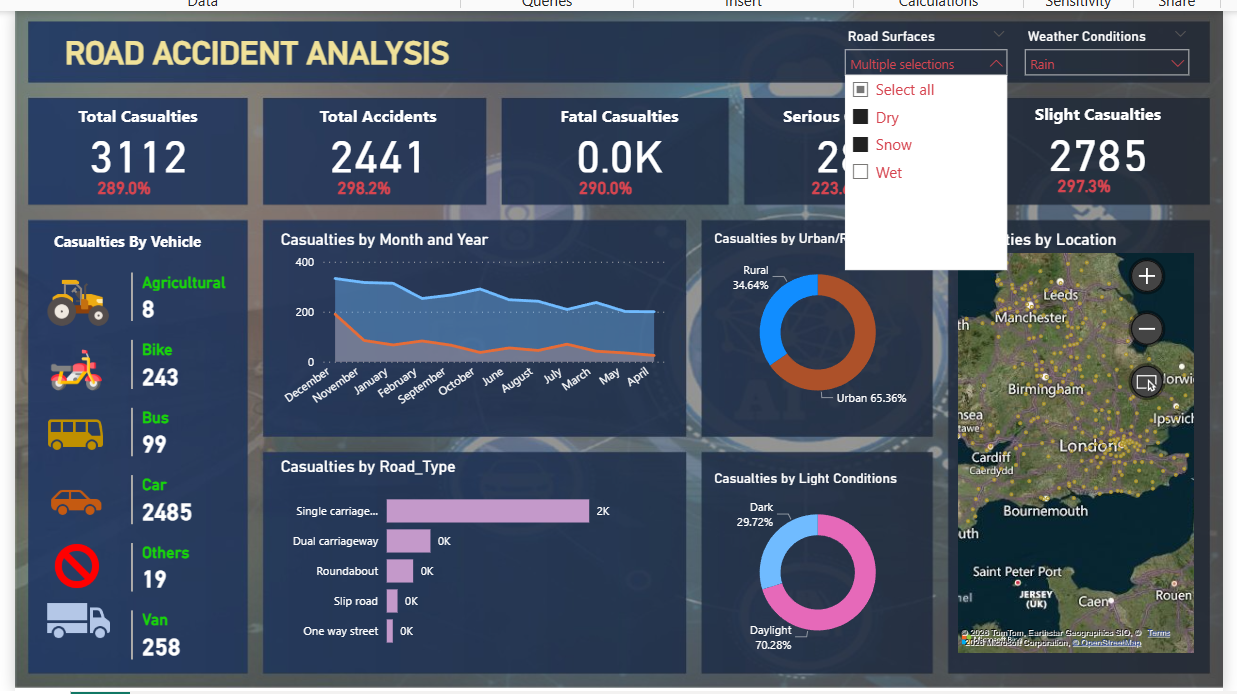

What the dashboard file says about the page in this screenshot:
{"tool":"powerbi","page":{"name":"Page 1","canvas":[1280,720],"ordinal":0},"visuals":[{"type":"card","title":"Slight Casualties","fields":{"Values":["Data.CY_Casualties"]},"box":[1039.4,96.4,216.2,77.9],"z":0,"group":"g5"},{"type":"card","title":"Serious Casualties","fields":{"Values":["Data.CY_Casualties"]},"box":[778.6,98.3,216.2,77.9],"z":0,"group":"g4"},{"type":"group","id":"g1","title":"Group 1","box":[22.3,98.5,216.2,112.8],"z":0},{"type":"card","title":"Total Casualties","fields":{"Values":["Data.CY_Casualties"]},"box":[22.3,98.5,216.2,77.9],"z":0,"group":"g1"},{"type":"card","title":"Total Accidents","fields":{"Values":["Data.CY Accidents Coun"]},"box":[276.6,98.5,216.2,77.9],"z":0,"group":"g2"},{"type":"card","title":"Fatal Casualties","fields":{"Values":["Data.CY_Casualties"]},"box":[532.5,98.5,216.2,77.9],"z":0,"group":"g3"},{"type":"group","id":"g2","title":"Group 1","box":[276.6,98.5,216.2,112.8],"z":1000},{"type":"card","title":"Total CY Casualties","fields":{"Values":["Data.YoY Casualties"]},"box":[1083.9,161.6,97,47.7],"z":1000,"group":"g5"},{"type":"card","title":"Total CY Casualties","fields":{"Values":["Data.YoY Casualties"]},"box":[823.1,163.5,97,47.7],"z":1000,"group":"g4"},{"type":"card","title":"Total CY Casualties","fields":{"Values":["Data.YoY Casualties"]},"box":[66.8,163.7,97,47.7],"z":1000,"group":"g1"},{"type":"card","title":"Total CY Casualties","fields":{"Values":["Data.YoY Accidents"]},"box":[321.1,163.7,97,47.7],"z":1000,"group":"g2"},{"type":"card","title":"Total CY Casualties","fields":{"Values":["Data.YoY Casualties"]},"box":[577,163.7,97,47.7],"z":1000,"group":"g3"},{"type":"group","id":"g3","title":"Group 1","box":[532.5,98.5,216.2,112.8],"z":2000},{"type":"group","id":"g4","title":"Group 1","box":[778.6,98.3,215.4,113.4],"z":3000},{"type":"group","id":"g5","title":"Group 1","box":[1039.4,96.4,215.4,113.4],"z":4000},{"type":"textbox","box":[22.7,18.9,468.7,51],"z":5000},{"type":"multiRowCard","fields":{"Values":["Data.Vehicle_Type (groups)","Data.CY Casualties"]},"box":[117.2,272.1,122.8,447.9],"z":6000},{"type":"image","box":[9.4,268.3,115.3,79.4],"z":7000},{"type":"image","box":[20.8,347.7,88.8,64.3],"z":8000},{"type":"image","box":[15.1,412,96.4,73.7],"z":9000},{"type":"image","box":[20.8,485.7,88.8,68],"z":10000},{"type":"image","box":[24.6,604.7,86.9,83.2],"z":11000},{"type":"image","box":[28.3,553.7,73.7,69.9],"z":12000},{"type":"textbox","box":[28.3,226.8,181.4,41.6],"z":13000},{"type":"areaChart","title":"Casualties by Month and Year","fields":{"Category":["Calendar.Month"],"Y":["Sum(Data.Number_of_Casualties)"],"Series":["Calendar.Year"]},"box":[275.9,232.4,417.6,202.2],"z":14000},{"type":"donutChart","title":"Casualties by Urban/Rural","fields":{"Category":["Data.Urban_or_Rural_Area"],"Y":["Data.CY Casualties"]},"box":[735.1,232.4,228.7,200.3],"z":15000},{"type":"donutChart","title":"Casualties by Light Conditions","fields":{"Y":["Data.CY Casualties"],"Category":["Data.Light_Conditions (groups)"]},"box":[735.1,485.7,228.7,200.3],"z":16000},{"type":"barChart","title":"Casualties by Road_Type","fields":{"Category":["Data.Road_Type"],"Y":["Data.CY Casualties"]},"box":[275.9,472.4,417.6,215.4],"z":17000},{"type":"map","title":"Casualties by Location","fields":{"Y":["Data.Latitude"],"X":["Data.Longitude"],"Category":["Data.Local_Authority_(District)"]},"box":[994,232.4,260.8,453.5],"z":18000},{"type":"slicer","fields":{"Values":["Data.Weather_Conditions (groups)"]},"box":[1060.1,12.7,193.9,57.2],"z":19000},{"type":"slicer","fields":{"Values":["Data.Road_Surface_Conditions (groups)"]},"box":[869.4,12.7,192.3,57.2],"z":20000}]}

Visuals, with their boxes on the page's 1280x720 design canvas (x1, y1, x2, y2). These are canvas units, not pixel positions in the 1237x694 screenshot, which may show the page scaled, cropped or inside an application window:
"Slight Casualties" card: <region>1039, 96, 1256, 174</region>
"Serious Casualties" card: <region>779, 98, 995, 176</region>
"Group 1" group: <region>22, 98, 238, 211</region>
"Total Casualties" card: <region>22, 98, 238, 176</region>
"Total Accidents" card: <region>277, 98, 493, 176</region>
"Fatal Casualties" card: <region>532, 98, 749, 176</region>
"Group 1" group: <region>277, 98, 493, 211</region>
"Total CY Casualties" card: <region>1084, 162, 1181, 209</region>
"Total CY Casualties" card: <region>823, 164, 920, 211</region>
"Total CY Casualties" card: <region>67, 164, 164, 211</region>
"Total CY Casualties" card: <region>321, 164, 418, 211</region>
"Total CY Casualties" card: <region>577, 164, 674, 211</region>
"Group 1" group: <region>532, 98, 749, 211</region>
"Group 1" group: <region>779, 98, 994, 212</region>
"Group 1" group: <region>1039, 96, 1255, 210</region>
textbox: <region>23, 19, 491, 70</region>
multiRowCard - Data.Vehicle_Type (groups) x Data.CY Casualties: <region>117, 272, 240, 720</region>
image: <region>9, 268, 125, 348</region>
image: <region>21, 348, 110, 412</region>
image: <region>15, 412, 112, 486</region>
image: <region>21, 486, 110, 554</region>
image: <region>25, 605, 112, 688</region>
image: <region>28, 554, 102, 624</region>
textbox: <region>28, 227, 210, 268</region>
"Casualties by Month and Year" areaChart: <region>276, 232, 694, 435</region>
"Casualties by Urban/Rural" donutChart: <region>735, 232, 964, 433</region>
"Casualties by Light Conditions" donutChart: <region>735, 486, 964, 686</region>
"Casualties by Road_Type" barChart: <region>276, 472, 694, 688</region>
"Casualties by Location" map: <region>994, 232, 1255, 686</region>
slicer - Data.Weather_Conditions (groups): <region>1060, 13, 1254, 70</region>
slicer - Data.Road_Surface_Conditions (groups): <region>869, 13, 1062, 70</region>
